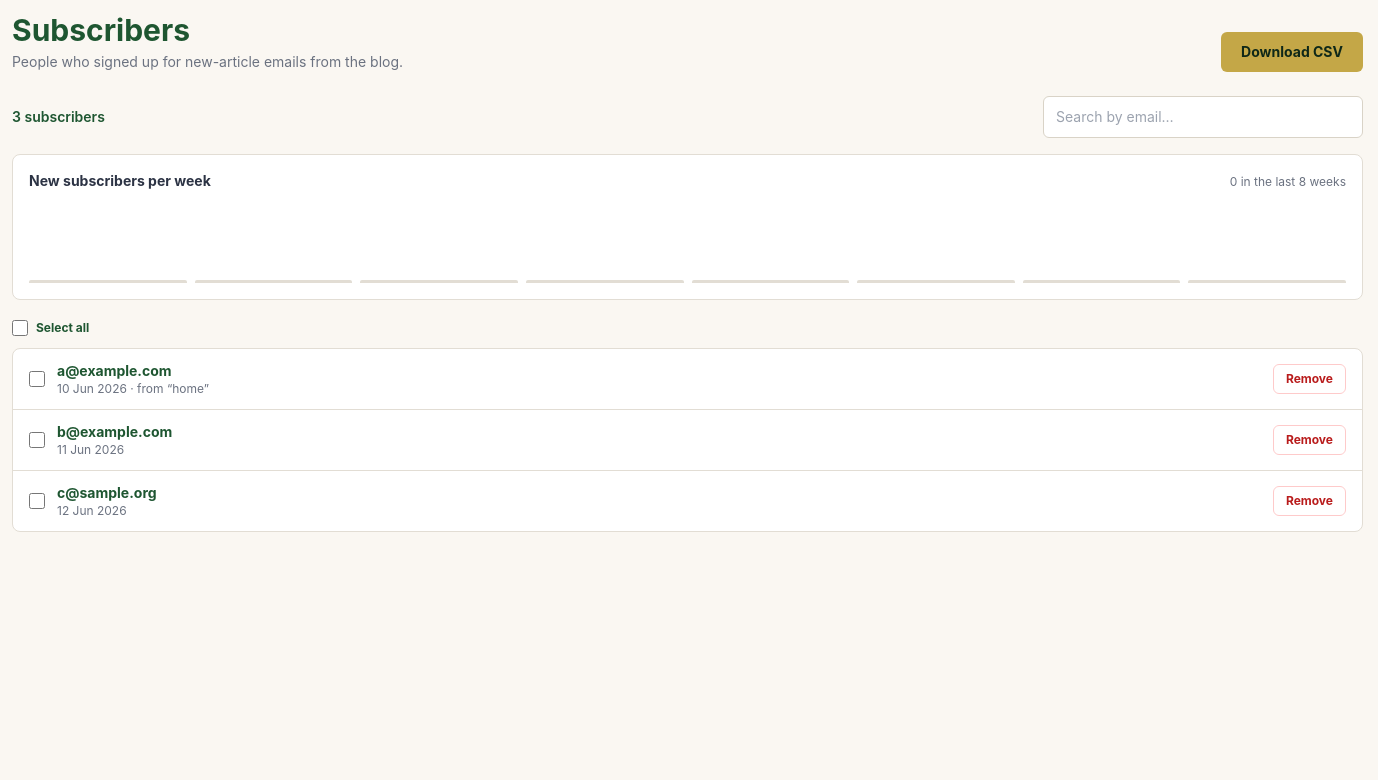
it: searching drops hidden rows from the selection
expect the text "a@example.com" is shown: met, box [57,362,172,379]
Click the checkbox named "select a@example.com" at (37, 379), box [29,371,45,387]
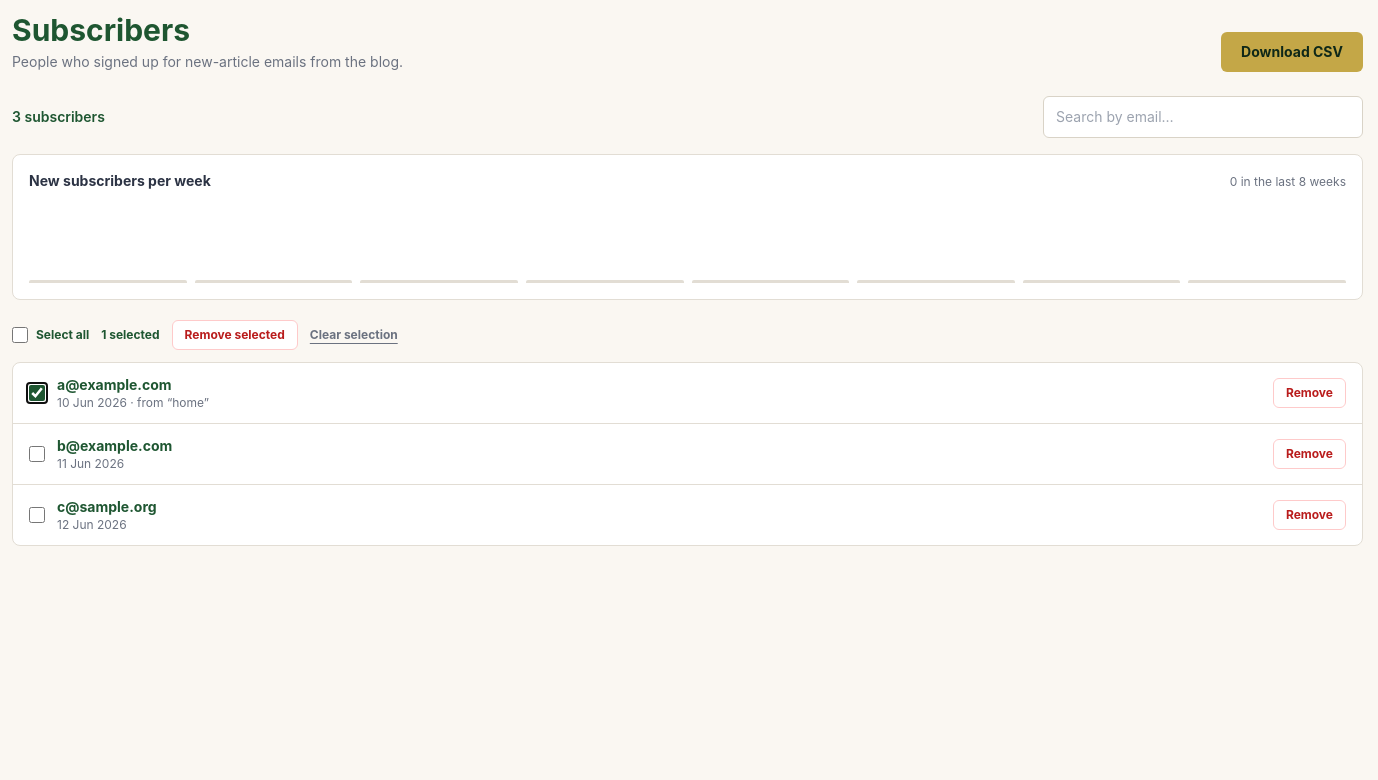
Type "sample.org" into the search field named "search subscribers" at (1203, 117), box [1043,96,1363,138]
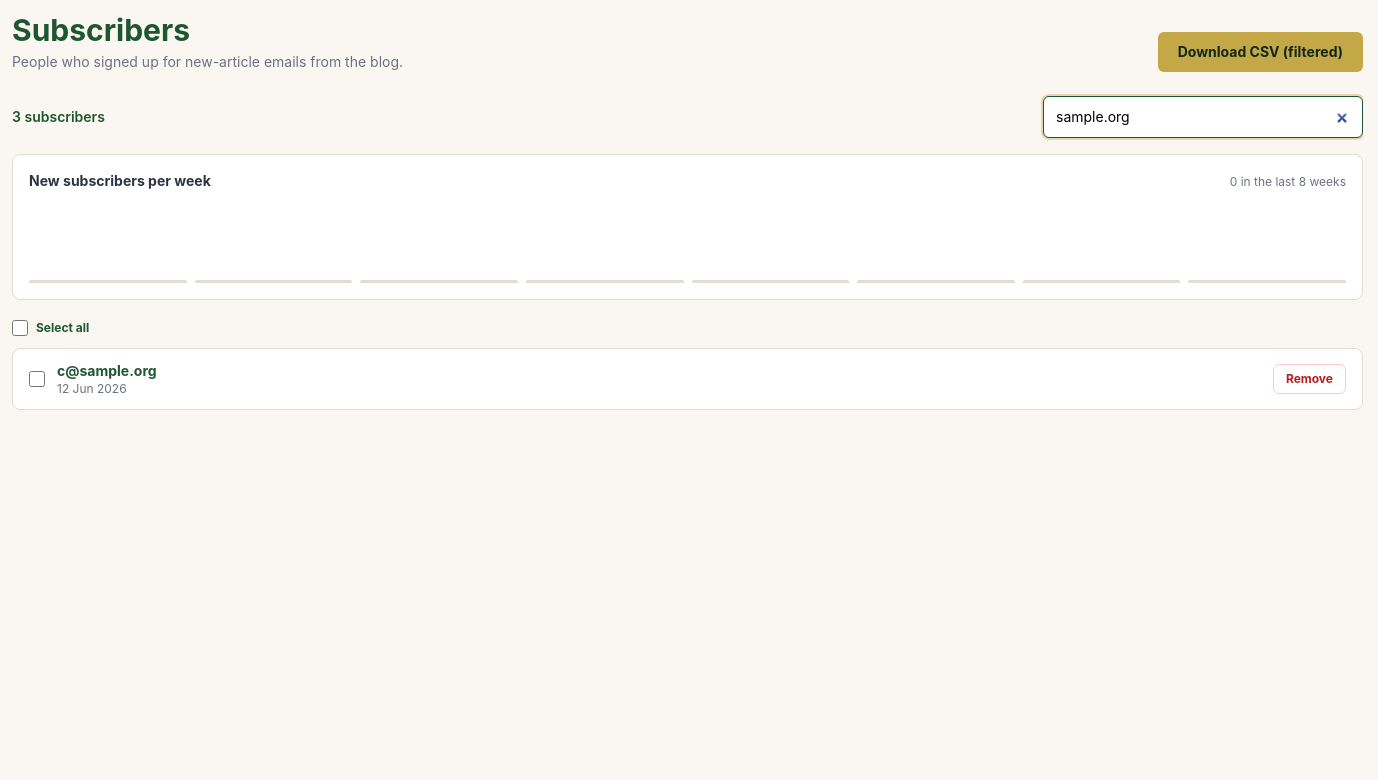
expect the text "selected" is gone: met
